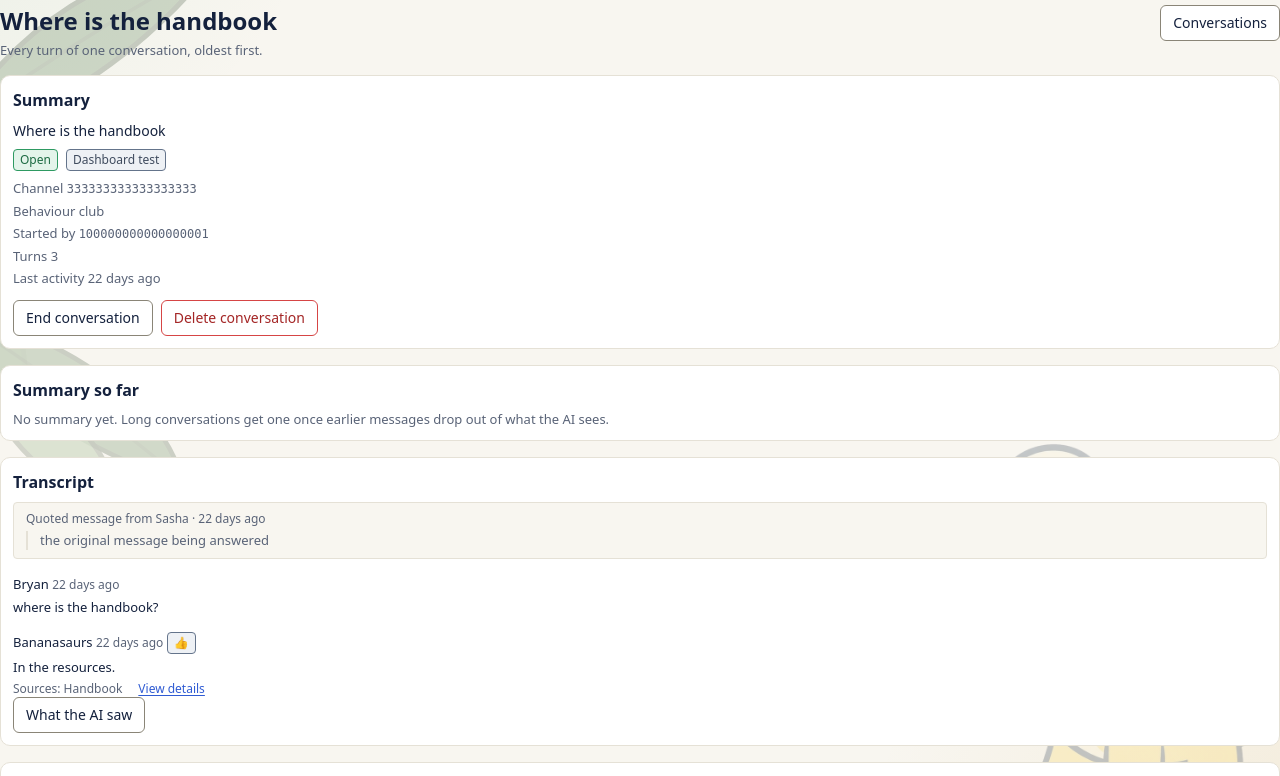
Scenario: AssistantConversationPage › offers What the AI saw inline on the traced assistant turn
Check: the text "In the resources." is shown, box [13, 658, 115, 676]
Check: the link "View details" is shown, box [138, 681, 205, 697]
Click the button "What the AI saw".
click(79, 715)  # box [13, 697, 145, 733]
(page scrolled)
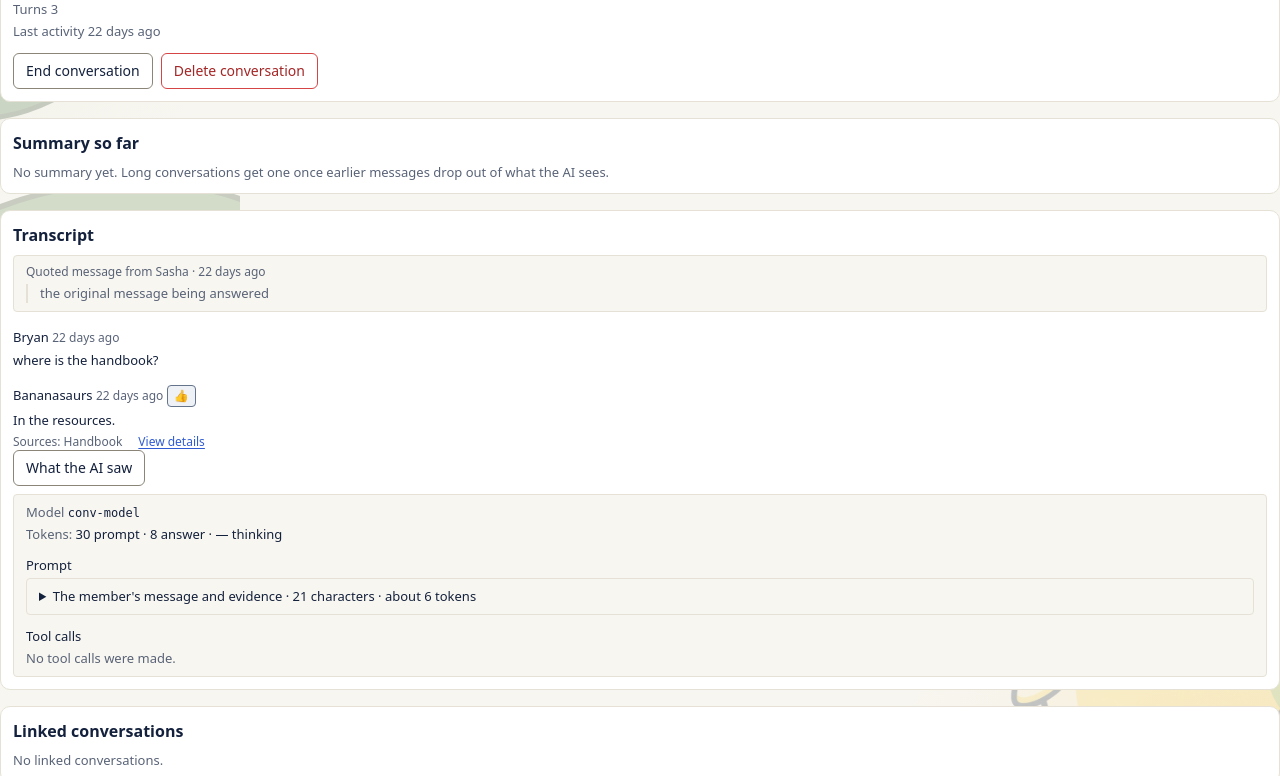
Check: the text "conv-model" is shown, box [68, 506, 140, 520]
Check: the heading "The member's message and evidence · 21 characters · about 6 tokens" is shown, box [53, 587, 476, 605]
